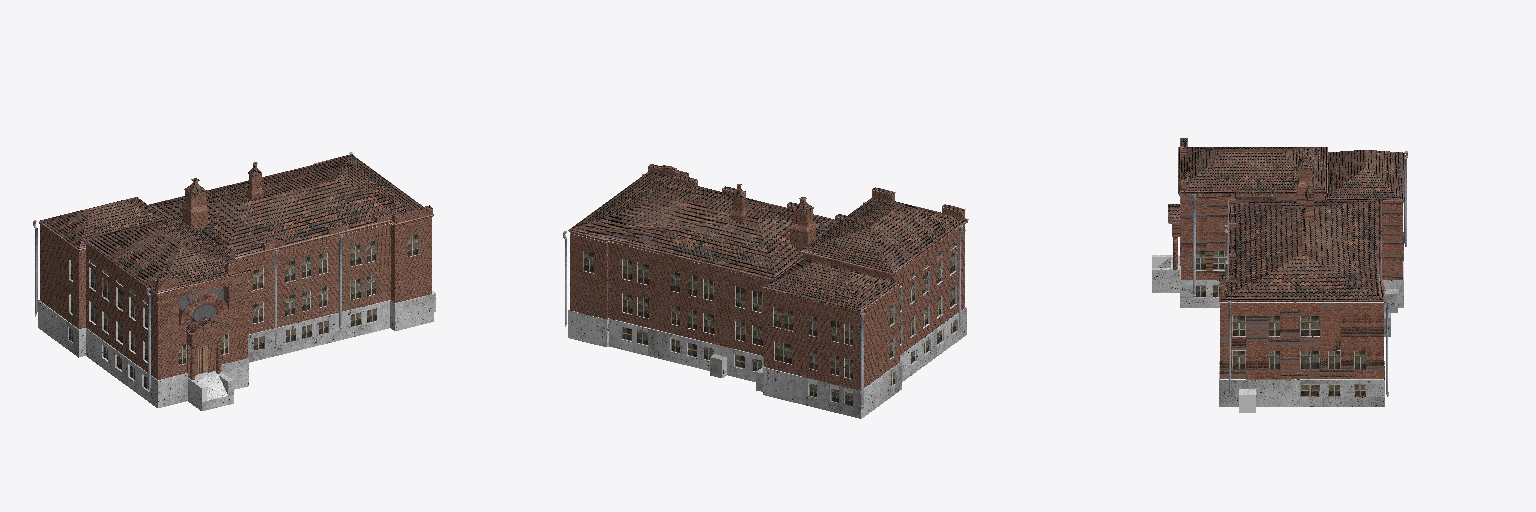
3 renders of one model, left to right at view 1: azimuth 30°, elevation 25°; view 2: azimuth 150°, elevation 25°; view 3: azimuth 270°, elevation 25°, orthographic.
Parts seen in each view (by area): view 1: Основа_Материал.001, Крыша_Север_Материал.010, Крыша_Материал, Крыша.002_Материал.014, Дымоход_труба_Материал.001; view 2: Основа_Материал.001, Крыша_Север_Материал.010, Крыша_Материал, Крыша.002_Материал.014, Дымоход_труба_Материал.001; view 3: Основа_Материал.001, Крыша_Север_Материал.010, Крыша_Материал, Крыша.002_Материал.014, Дымоход_труба_Материал.001.
Part boxes in pixels (x1,y1,x2,y2): Основа_Материал.001: (38, 218, 435, 410); Крыша_Север_Материал.010: (148, 154, 433, 258); Крыша_Материал: (82, 216, 251, 295); Крыша.002_Материал.014: (39, 197, 165, 251); Дымоход_труба_Материал.001: (183, 178, 207, 230); Основа_Материал.001: (568, 225, 966, 418); Крыша_Север_Материал.010: (568, 172, 837, 280); Крыша_Материал: (800, 198, 968, 275); Крыша.002_Материал.014: (763, 259, 900, 313); Дымоход_труба_Материал.001: (790, 197, 815, 249); Основа_Материал.001: (1152, 196, 1403, 412); Крыша_Север_Материал.010: (1219, 200, 1384, 301); Крыша_Материал: (1178, 147, 1327, 195); Крыша.002_Материал.014: (1325, 150, 1404, 202); Дымоход_труба_Материал.001: (1297, 153, 1313, 202).
Size of the model in its own units: 36.14 by 17.24 by 25.2.
11 materials, 2 textured.